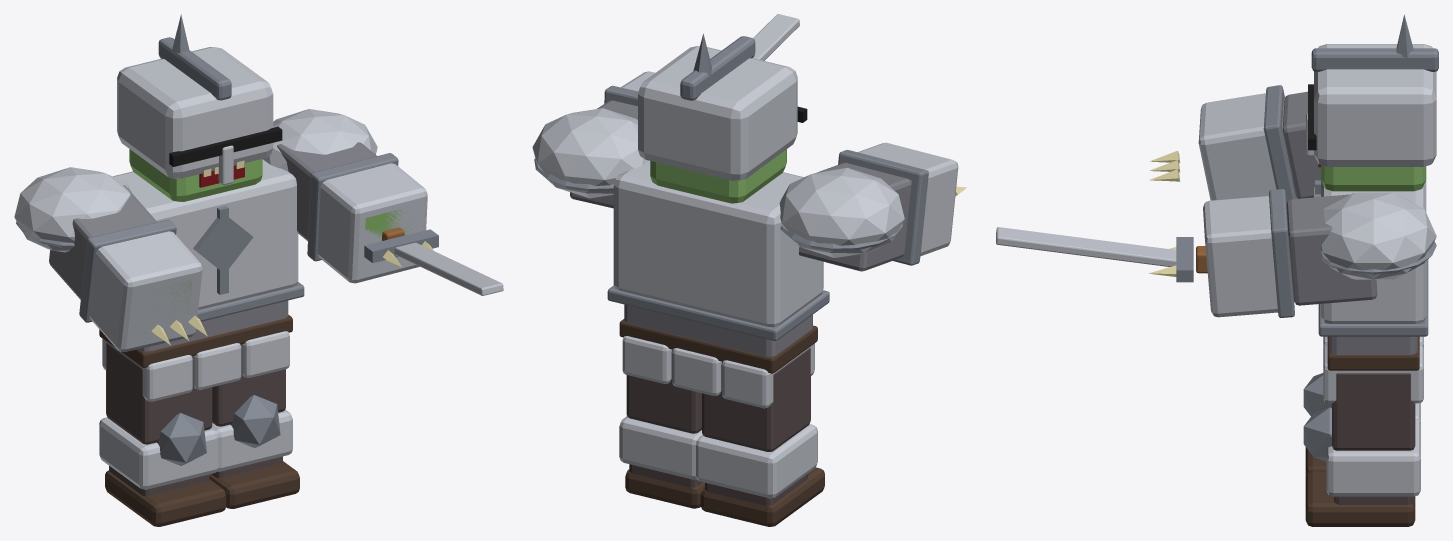
The model's file is zombi_armadura_hierro.glb.
3 renders of one model, left to right at view 1: azimuth 30°, elevation 25°; view 2: azimuth 150°, elevation 25°; view 3: azimuth 270°, elevation 25°, orthographic. The views are drawn at different scales.
Parts seen in each view (by area): view 1: Torso, LeftArm, RightArm, Head, LeftLeg, RightLeg; view 2: Torso, Head, LeftArm, LeftLeg, RightArm, RightLeg; view 3: RightArm, Head, RightLeg, LeftArm, Torso, LeftLeg.
Boxes of the visible parts, x1,y1,x2,y2 form: Torso: [99, 159, 304, 401]; LeftArm: [14, 167, 207, 352]; RightArm: [263, 109, 503, 295]; Head: [117, 14, 282, 201]; LeftLeg: [99, 343, 226, 526]; RightLeg: [209, 344, 299, 508]; Torso: [607, 160, 829, 408]; Head: [638, 33, 807, 203]; LeftArm: [779, 142, 966, 271]; LeftLeg: [696, 348, 824, 526]; RightArm: [532, 14, 799, 208]; RightLeg: [619, 349, 704, 508]; RightArm: [996, 189, 1436, 317]; Head: [1306, 14, 1438, 191]; RightLeg: [1303, 373, 1420, 526]; LeftArm: [1149, 85, 1320, 203]; Torso: [1314, 180, 1428, 403]; LeftLeg: [1303, 373, 1420, 477].
Bounding box in the file's own units: 5.15 × 6.62 × 5.55.
1 material, 1 textured.
